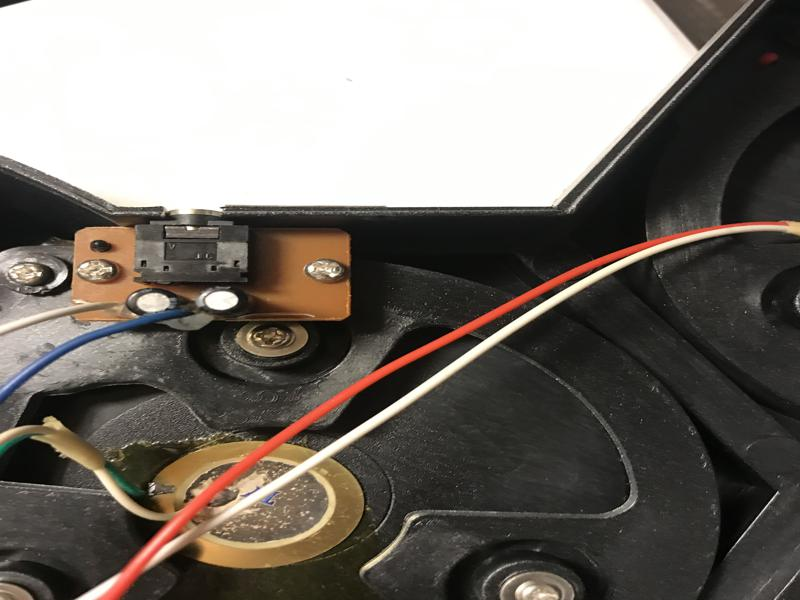Capacitor: (197, 284, 249, 320), (125, 288, 178, 318)
